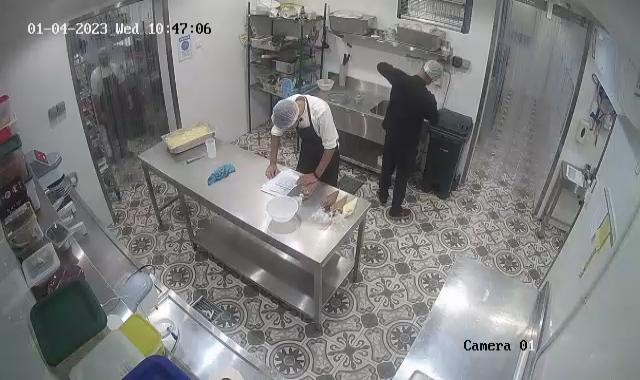hairnet: (272, 96, 298, 130), (419, 57, 443, 87)
